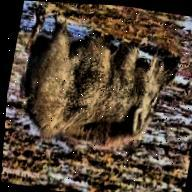boar: (7, 5, 189, 163)
